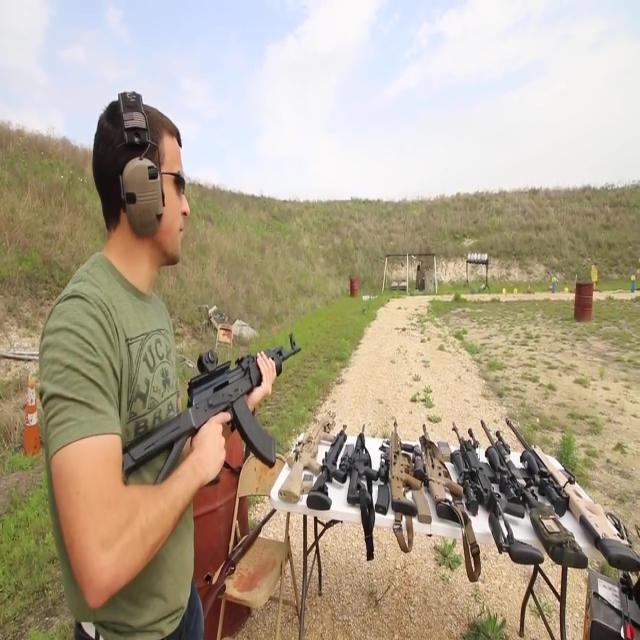Weapon: (277, 361, 640, 577), (94, 314, 298, 480), (168, 480, 297, 628)
